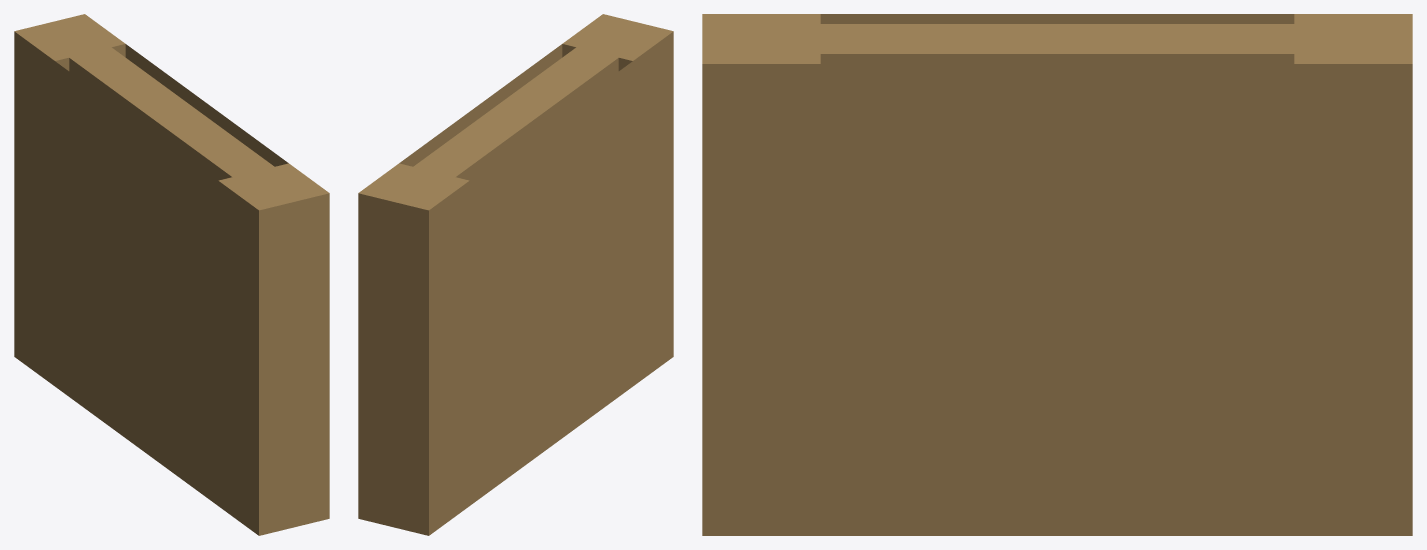
The model's file is wood_border_wall_01.glb.
3 renders of one model, left to right at view 1: azimuth 30°, elevation 25°; view 2: azimuth 150°, elevation 25°; view 3: azimuth 270°, elevation 25°, orthographic. The views are drawn at different scales.
Parts seen in each view (by area): view 1: Mesh1 Wood_Border_Wall Model; view 2: Mesh1 Wood_Border_Wall Model; view 3: Mesh1 Wood_Border_Wall Model.
Part boxes in pixels (bbox=[...]): Mesh1 Wood_Border_Wall Model: bbox=[14, 14, 329, 535]; Mesh1 Wood_Border_Wall Model: bbox=[358, 14, 673, 535]; Mesh1 Wood_Border_Wall Model: bbox=[702, 14, 1412, 535].
Bounding box in the file's own units: 0.5 × 2.2 × 3.
